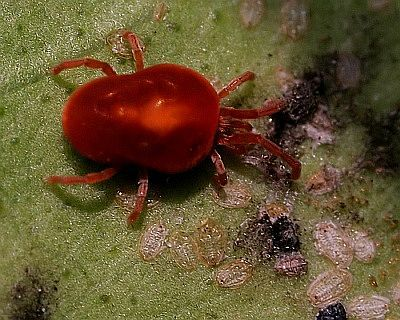Mites: (38, 22, 303, 238)
